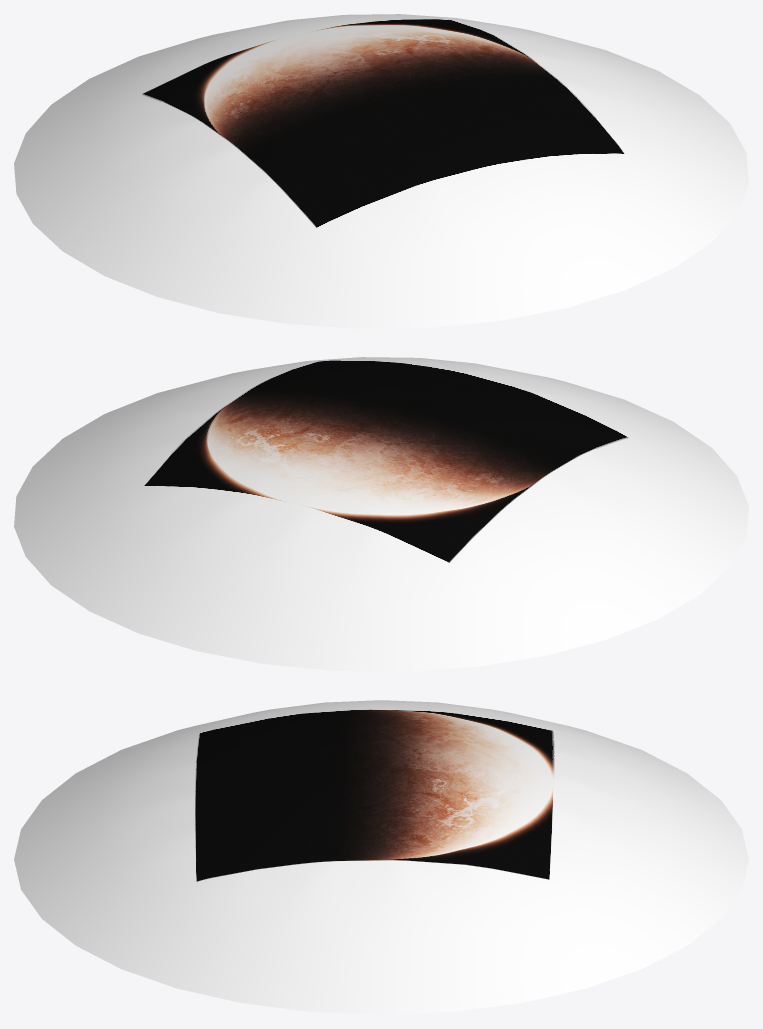
File: Hemisphere.fbx
3 views of the same model, one above another, from view 1: azimuth 30°, elevation 25°; view 2: azimuth 150°, elevation 25°; view 3: azimuth 270°, elevation 25° (orthographic).
Visible parts, largest first — view 1: Hemisphere; view 2: Hemisphere; view 3: Hemisphere.
Boxes of the visible parts, x1,y1,x2,y2 form: Hemisphere: [14, 14, 748, 328]; Hemisphere: [14, 357, 748, 671]; Hemisphere: [14, 700, 748, 1014].
Size of the model in its own units: 75.02 by 10.63 by 75.02.
